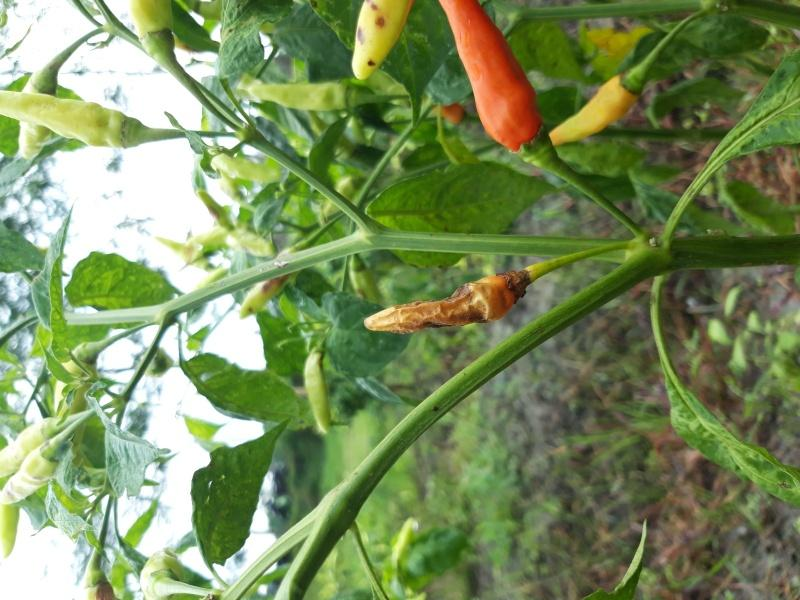antraknosa: (364, 270, 540, 335), (333, 1, 424, 84)
cabai_normal: (439, 1, 541, 146), (1, 90, 123, 151), (548, 74, 639, 149), (240, 76, 345, 112), (302, 349, 331, 434)
